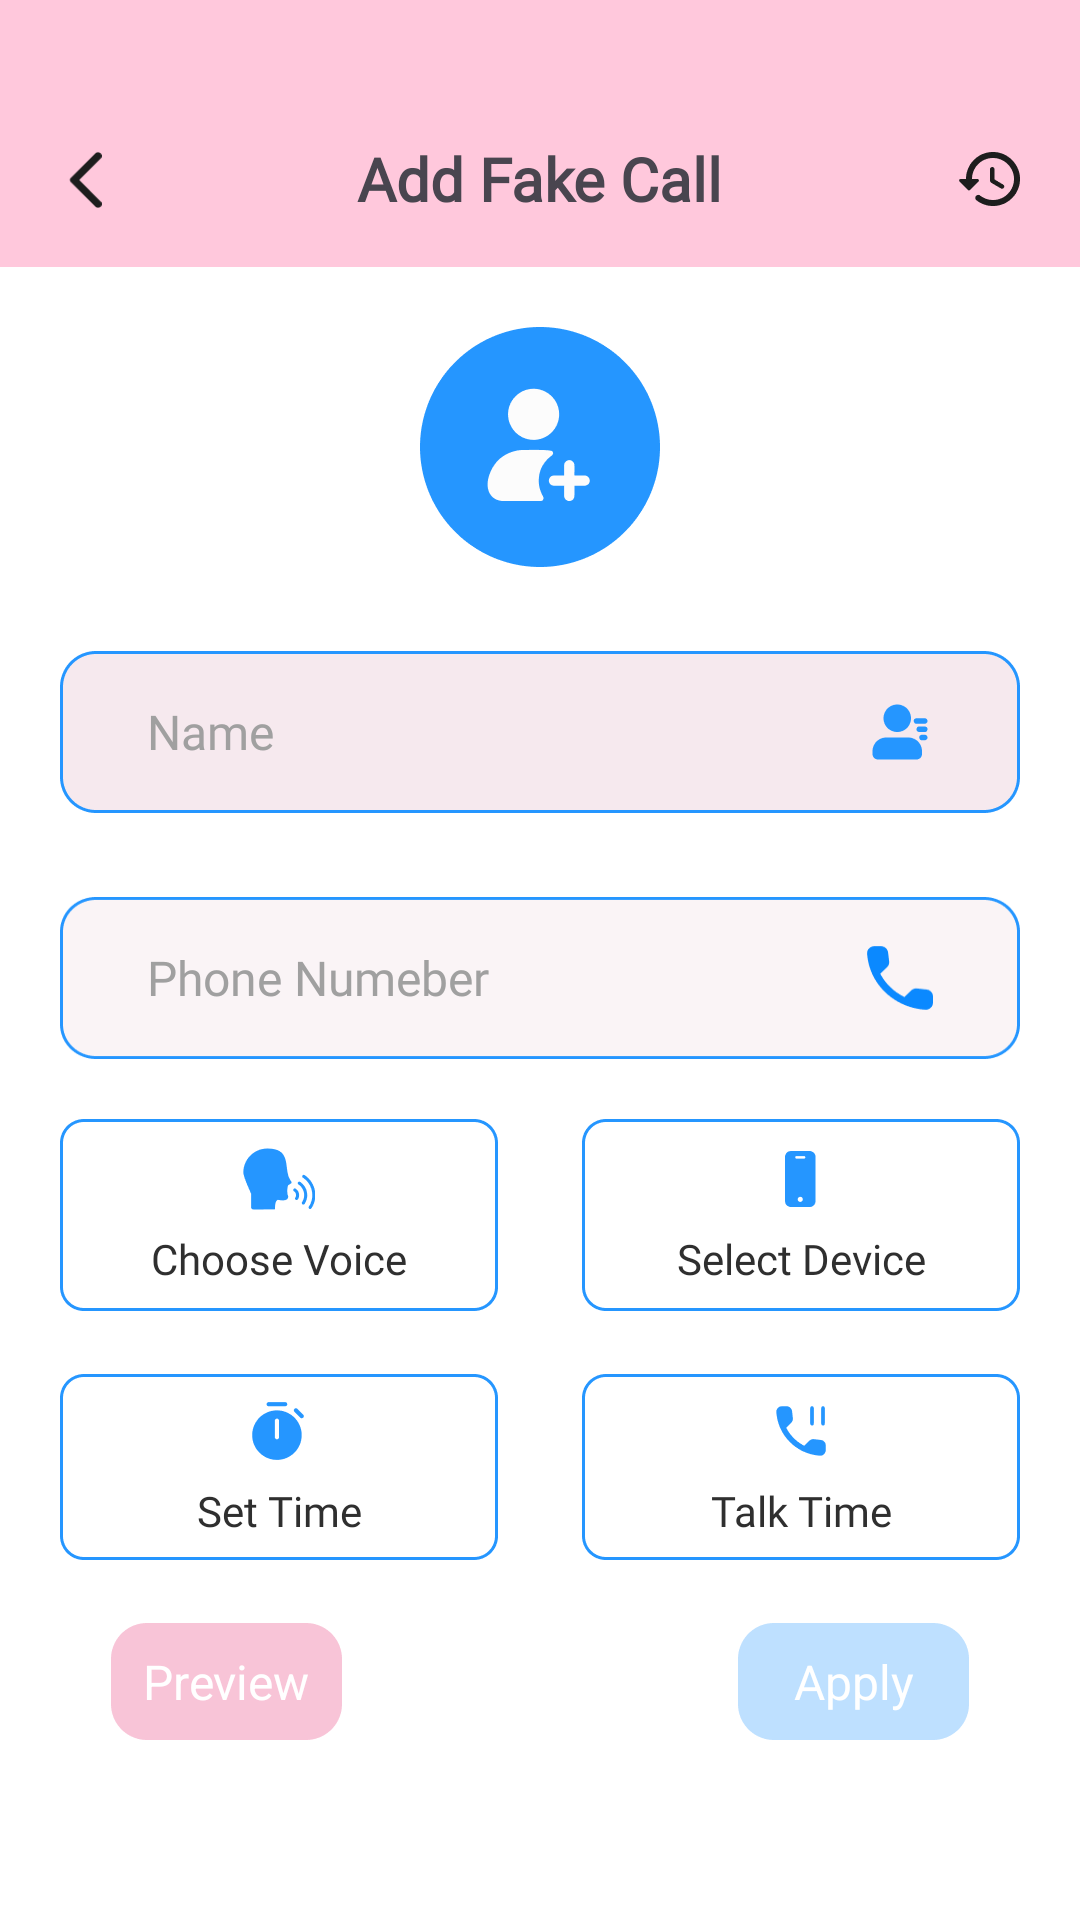

Icons on this 1080 × 1920 Android screen, each with its box as (x1=x1, y1=y1, x2=x2, y2=y2):
addavatar: (x1=420, y1=327, x2=660, y2=567)
arrowback addfakecall: (x1=69, y1=152, x2=102, y2=208)
history: (x1=959, y1=152, x2=1020, y2=206)
